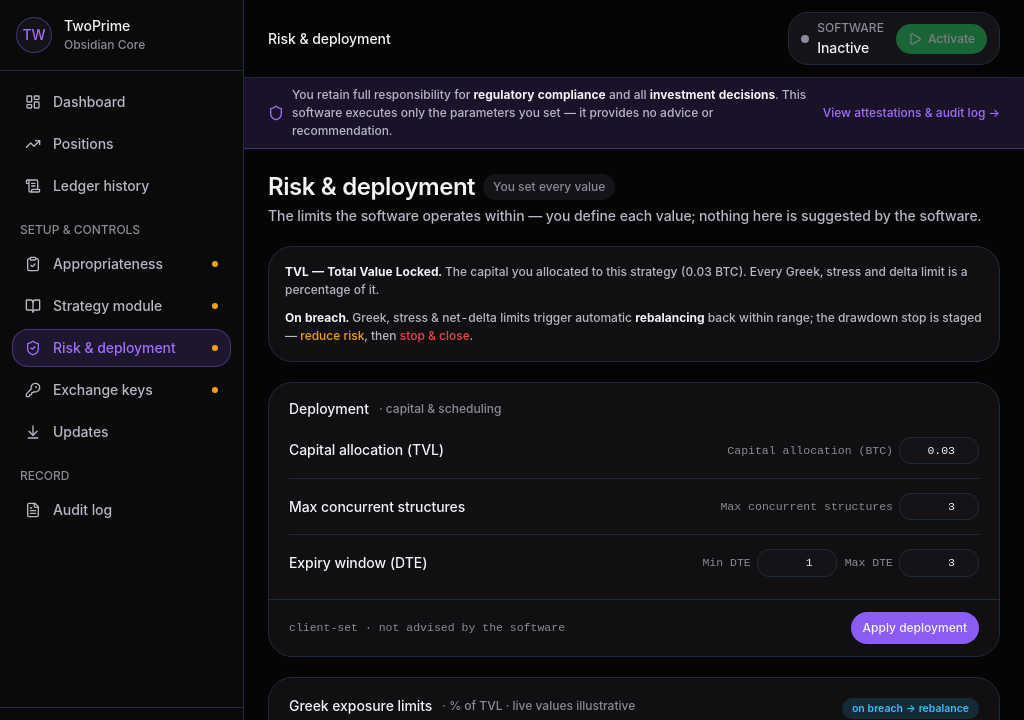
Scenario: ClientPortalShell › shows an error banner and does not flip the risk precondition when the save fails
The width and height of the screenshot is (1024, 720).
Click the button "Apply deployment". click: coordinates (915, 628)
box: [851,612,979,644]
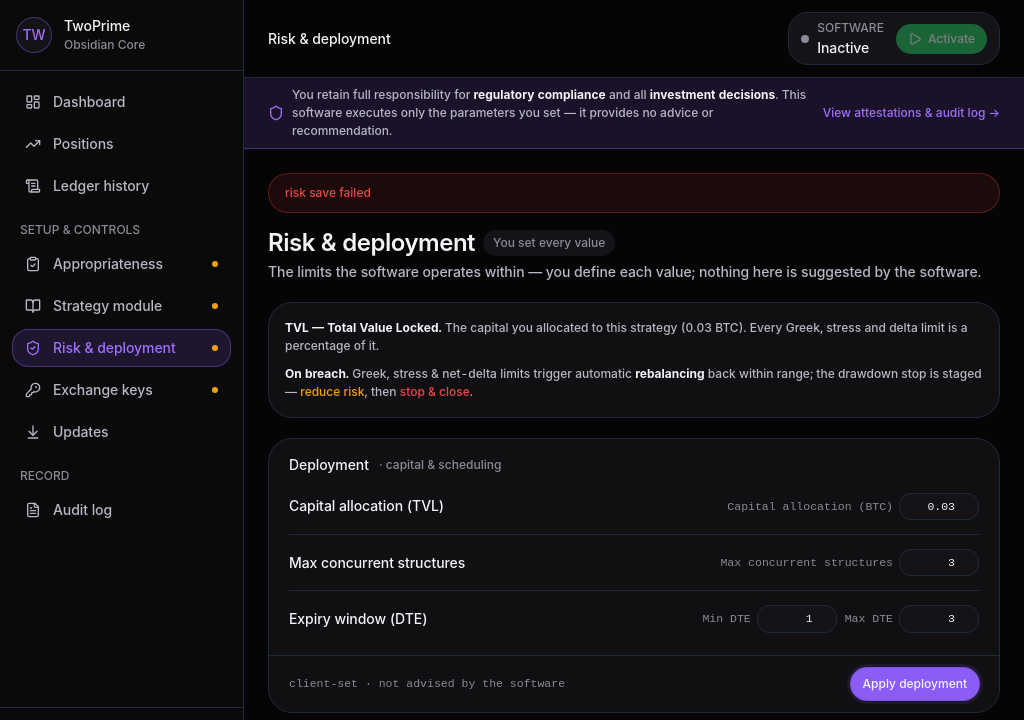
Now the text "risk save failed" is shown, box [268,173,1000,213]
